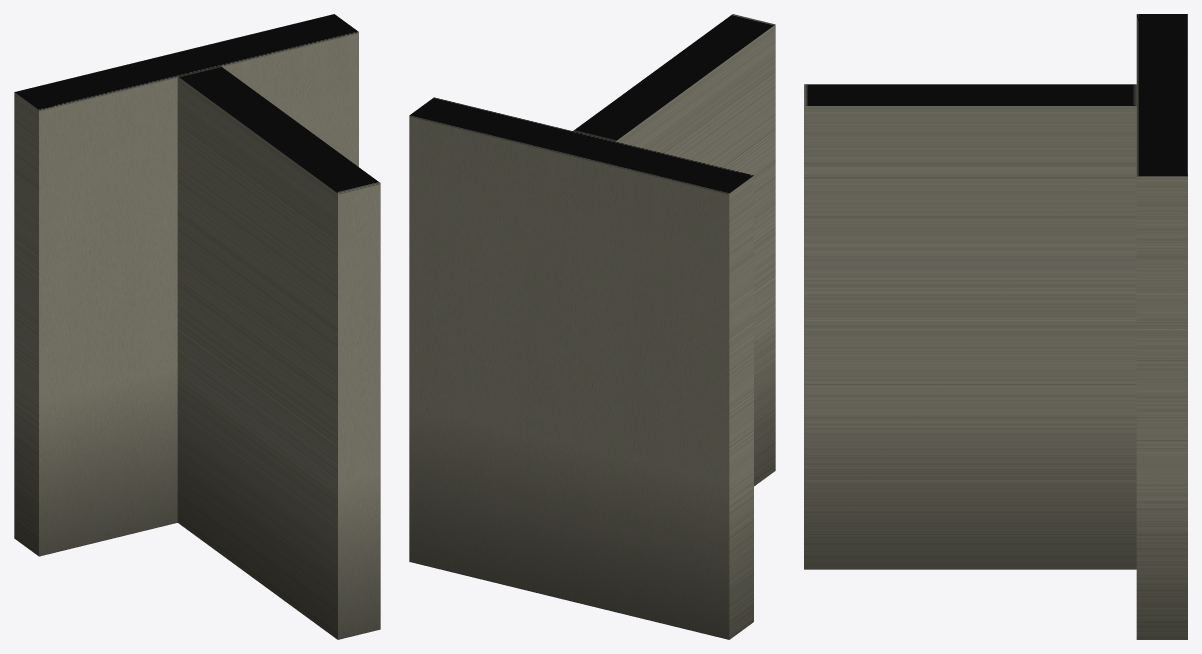
Rendered from wall_t.glb.
3 views of the same model, side by side, from view 1: azimuth 30°, elevation 25°; view 2: azimuth 150°, elevation 25°; view 3: azimuth 270°, elevation 25° (orthographic). The views are drawn at different scales.
Parts seen in each view (by area): view 1: wall_t-col; view 2: wall_t-col; view 3: wall_t-col.
Boxes of the visible parts, <box> form: wall_t-col: <box>14,14,380,639</box>; wall_t-col: <box>409,14,775,639</box>; wall_t-col: <box>804,14,1187,639</box>.
Bounding box in the file's own units: 1.5 × 2 × 1.5.
1 material, 1 textured.
